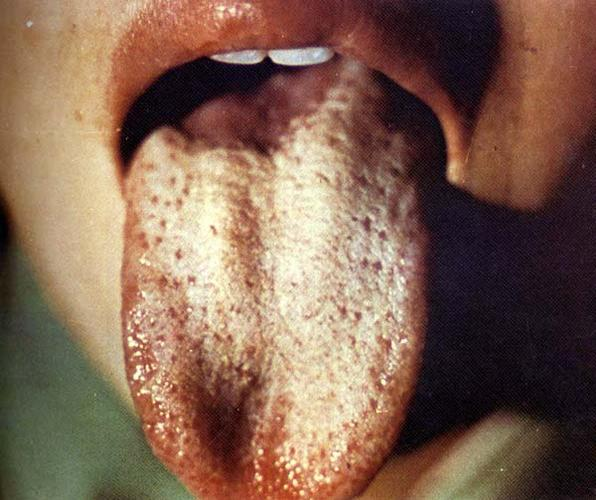baitaishe: (121, 57, 426, 500)
botaishe: (151, 58, 348, 164)
hongdianshe: (137, 174, 235, 363), (339, 205, 408, 412)
hongshe: (121, 57, 426, 500)
